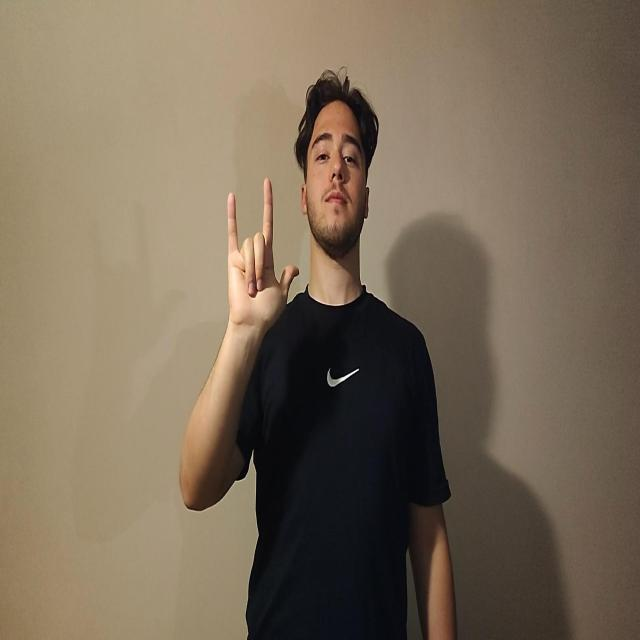iloveyou: (226, 176, 300, 332)
